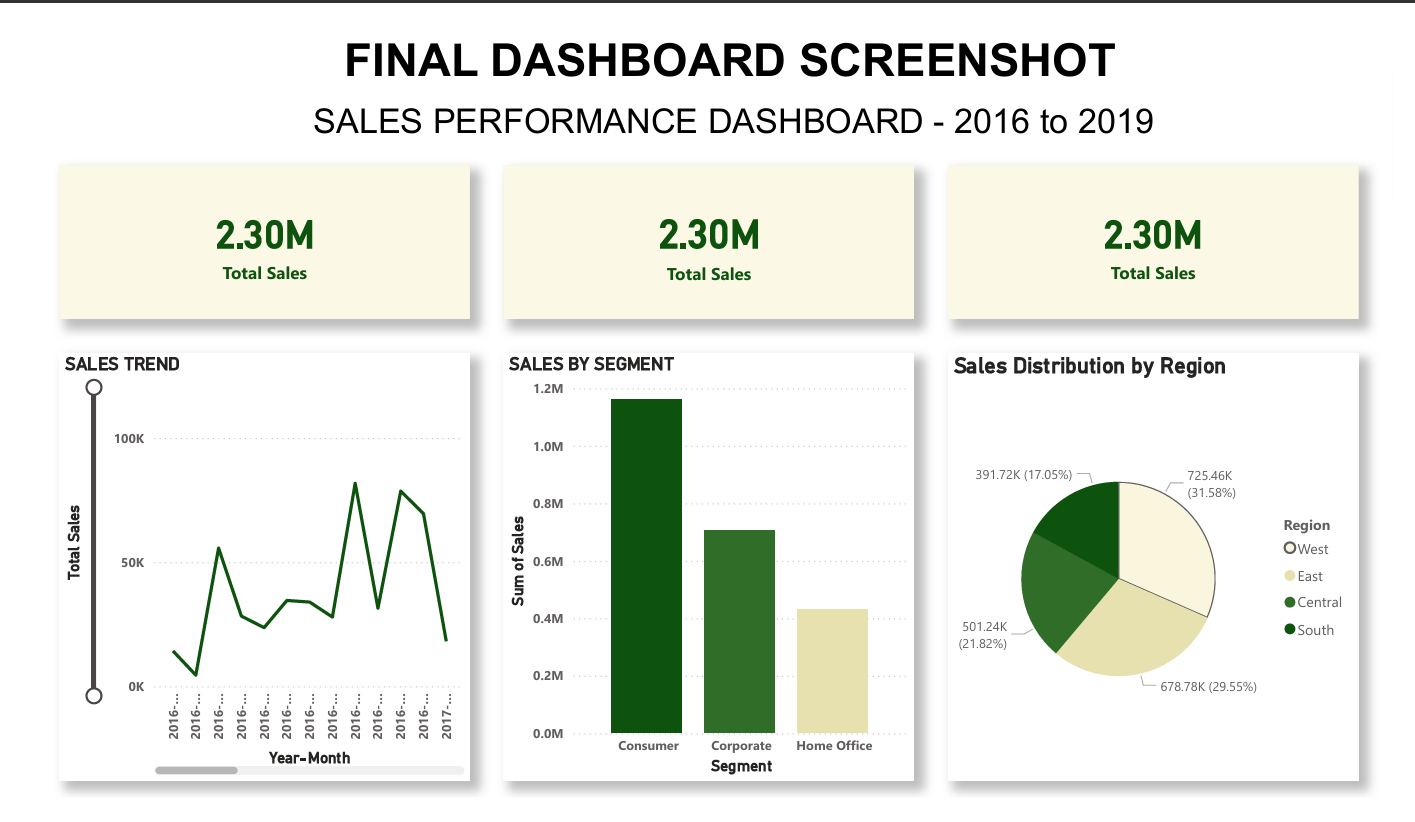

This screenshot's page, from the dashboard's own definition file:
{"tool":"powerbi","page":{"name":"Sales performance dashboard","canvas":[1280,720],"ordinal":0},"visuals":[{"type":"textbox","box":[16,0,1264,64],"z":0},{"type":"card","fields":{"Values":["Orders.Total Sales"]},"box":[448,96,384,144],"z":1000},{"type":"card","fields":{"Values":["Orders.Total Profit"]},"box":[32,96,368,144],"z":2000},{"type":"card","fields":{"Values":["Orders.Profit Margin %"]},"box":[864,96,384,144],"z":3000},{"type":"lineChart","title":"SALES TREND","fields":{"Category":["Date.Year-Month"],"Y":["Orders.Total Sales"]},"box":[32,272,368,416],"z":4000},{"type":"columnChart","title":"SALES BY SEGMENT","fields":{"Category":["Orders.Segment"],"Y":["Sum(Orders.Sales)"]},"box":[448,272,384,416],"z":5000},{"type":"pieChart","fields":{"Y":["Sum(Orders.Sales)","Orders.Prior Year Sales"],"Category":["Orders.Region"]},"box":[864,272,384,416],"z":6000}]}

Visuals, with their boxes on the page's 1280x720 design canvas (x1, y1, x2, y2). These are canvas units, not pixel positions in the 1415x822 screenshot, which may show the page scaled, cropped or inside an application window:
textbox: bbox=[16, 0, 1280, 64]
card - Orders.Total Sales: bbox=[448, 96, 832, 240]
card - Orders.Total Profit: bbox=[32, 96, 400, 240]
card - Orders.Profit Margin %: bbox=[864, 96, 1248, 240]
"SALES TREND" lineChart: bbox=[32, 272, 400, 688]
"SALES BY SEGMENT" columnChart: bbox=[448, 272, 832, 688]
pieChart - Sum(Orders.Sales) x Orders.Prior Year Sales: bbox=[864, 272, 1248, 688]
